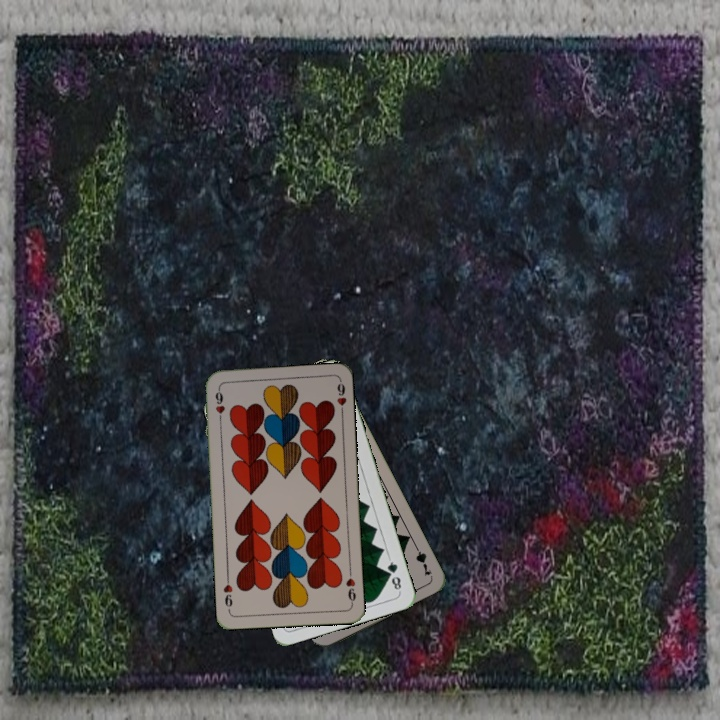G7: (410, 540, 434, 579)
G8: (383, 555, 404, 594)
H9: (342, 566, 358, 607), (211, 384, 227, 425)
